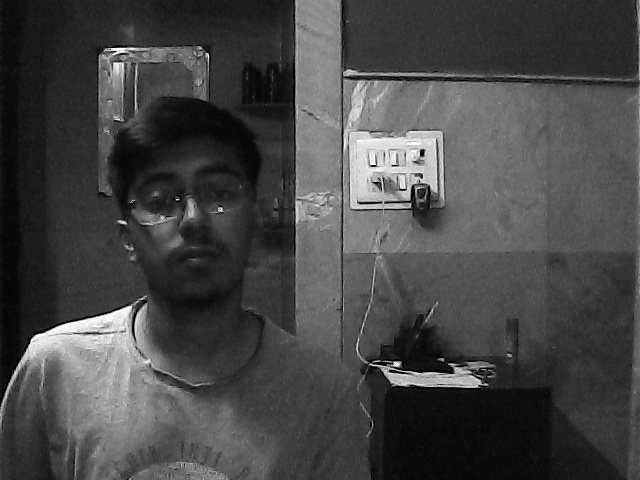nomask: (119, 140, 265, 307)
